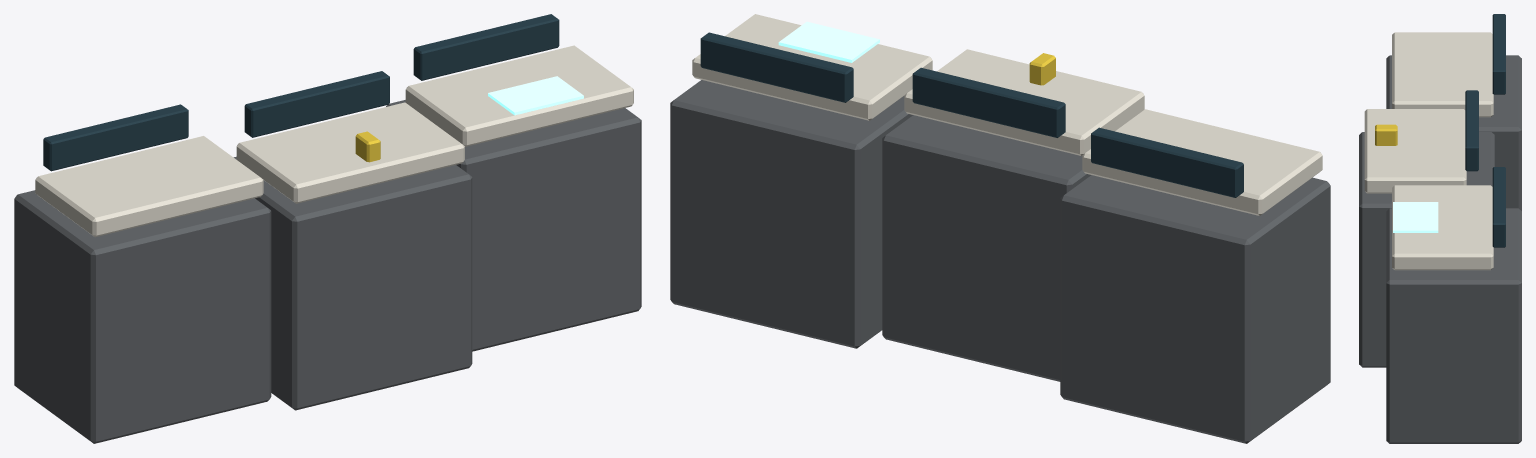
Rendered from helm_console.glb.
3 renders of one model, left to right at view 1: azimuth 30°, elevation 25°; view 2: azimuth 150°, elevation 25°; view 3: azimuth 270°, elevation 25°, orthographic. The views are drawn at different scales.
Parts seen in each view (by area): view 1: helm_console; view 2: helm_console; view 3: helm_console.
Part boxes in pixels (x1,y1,x2,y2): helm_console: [14, 14, 641, 443]; helm_console: [670, 14, 1330, 443]; helm_console: [1359, 14, 1521, 443].
Bounding box in the file's own units: 2.38 × 1.04 × 0.72.
